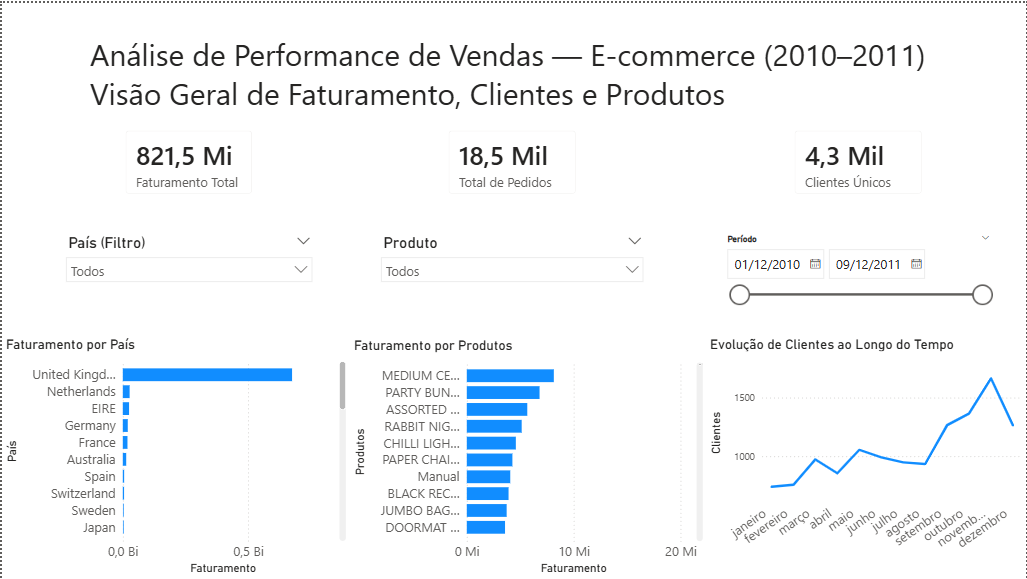

Layout of this report page (visuals, bound fields, positions):
{"tool":"powerbi","page":{"name":"Página 1","canvas":[1280,720],"ordinal":0},"visuals":[{"type":"cardVisual","fields":{"Data":["online_retail_clean.Faturamento"]},"box":[137.7,142.8,192.5,113.5],"z":0},{"type":"clusteredBarChart","fields":{"Category":["online_retail_clean.Country"],"Y":["online_retail_clean.Faturamento"]},"box":[0,416.5,434.8,303.2],"z":1000},{"type":"cardVisual","fields":{"Data":["online_retail_clean.Pedidos"]},"box":[541.8,142.8,193.8,113.5],"z":2000},{"type":"cardVisual","fields":{"Data":["online_retail_clean.Clientes"]},"box":[974,142.8,193.8,113.5],"z":3000},{"type":"textbox","box":[104.5,33.1,1069.6,109.6],"z":4000},{"type":"barChart","fields":{"Category":["online_retail_clean.Description"],"Y":["online_retail_clean.Faturamento"]},"box":[434.7,416.9,446.2,302.2],"z":5000},{"type":"lineChart","title":"Evolução de Clientes ao Longo do Tempo","fields":{"Y":["online_retail_clean.Clientes"],"Category":["online_retail_clean.InvoiceDate.Variation.Hierarquia de datas.Mês"]},"box":[880.4,416.5,399.6,303.2],"z":6000},{"type":"slicer","fields":{"Values":["online_retail_clean.Country"]},"box":[70.1,284.3,327.6,96.9],"z":7000},{"type":"slicer","fields":{"Values":["online_retail_clean.InvoiceDate"]},"box":[893.7,284.3,353.1,96.9],"z":8000},{"type":"slicer","fields":{"Values":["online_retail_clean.Description"]},"box":[464.1,284.3,348,96.9],"z":9000}]}

Visuals, with their boxes in screenshot pixels (x1, y1, x2, y2), scaled from the page's 1280x720 canvas onto the 1027x579 screenshot:
cardVisual - online_retail_clean.Faturamento: [left=110, top=115, right=265, bottom=206]
clusteredBarChart - online_retail_clean.Country x online_retail_clean.Faturamento: [left=0, top=335, right=349, bottom=578]
cardVisual - online_retail_clean.Pedidos: [left=435, top=115, right=590, bottom=206]
cardVisual - online_retail_clean.Clientes: [left=781, top=115, right=937, bottom=206]
textbox: [left=84, top=27, right=942, bottom=115]
barChart - online_retail_clean.Description x online_retail_clean.Faturamento: [left=349, top=335, right=707, bottom=578]
"Evolução de Clientes ao Longo do Tempo" lineChart: [left=706, top=335, right=1026, bottom=578]
slicer - online_retail_clean.Country: [left=56, top=229, right=319, bottom=307]
slicer - online_retail_clean.InvoiceDate: [left=717, top=229, right=1000, bottom=307]
slicer - online_retail_clean.Description: [left=372, top=229, right=652, bottom=307]
